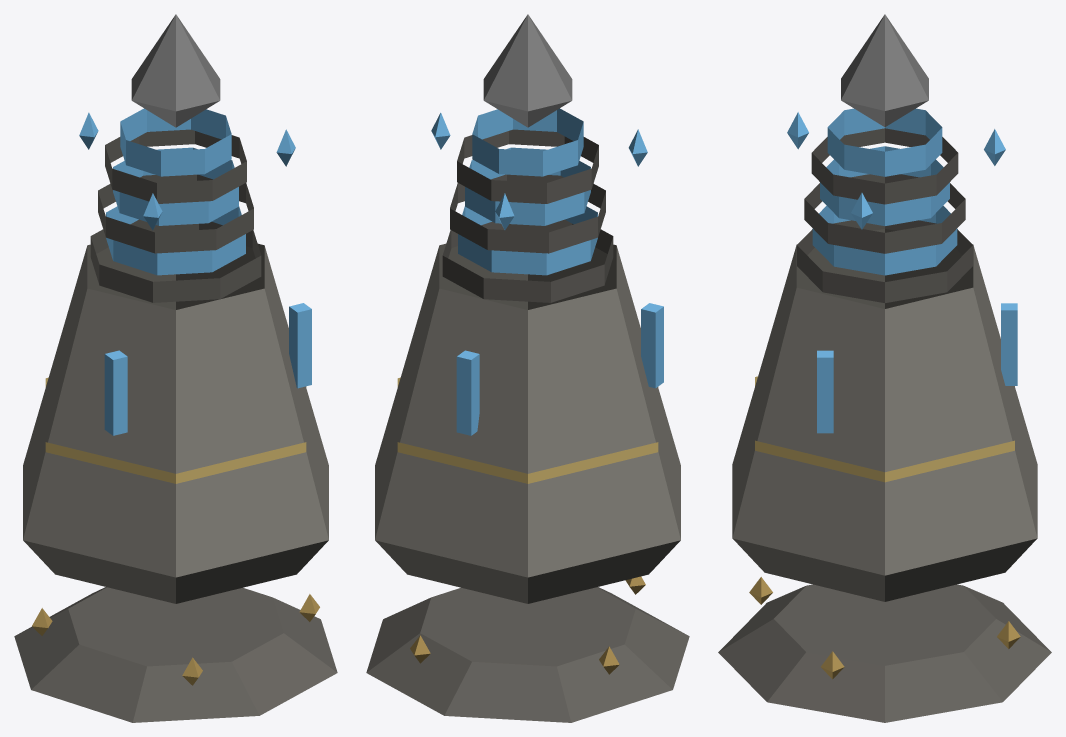
File: storm-ward.obj
The picture shows the model from 3 angles, left to right: view 1: azimuth 30°, elevation 25°; view 2: azimuth 150°, elevation 25°; view 3: azimuth 270°, elevation 25°; orthographic projection.
Parts seen in each view (by area): view 1: storm-ward; view 2: storm-ward; view 3: storm-ward.
Boxes of the visible parts, x1,y1,x2,y2 form: storm-ward: (14, 14, 337, 722); storm-ward: (366, 14, 689, 722); storm-ward: (718, 14, 1051, 722).
Size of the model in its own units: 3.8 by 7.6 by 3.6.
